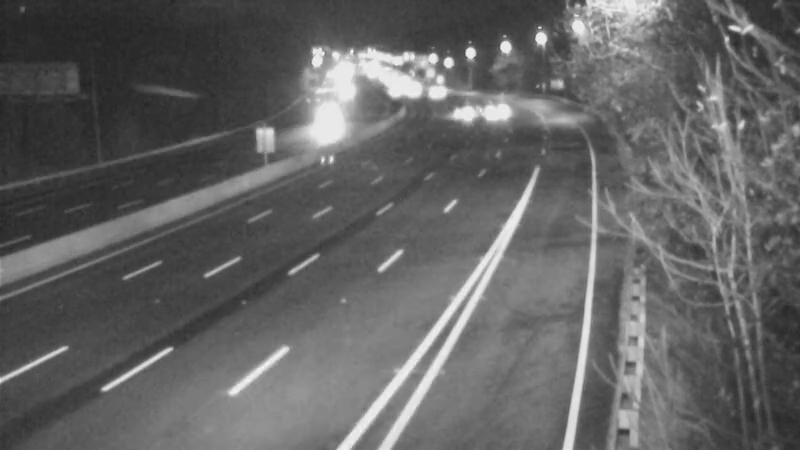vehicle: (409, 70, 459, 120), (470, 92, 520, 142), (429, 94, 479, 144), (292, 107, 342, 157)
